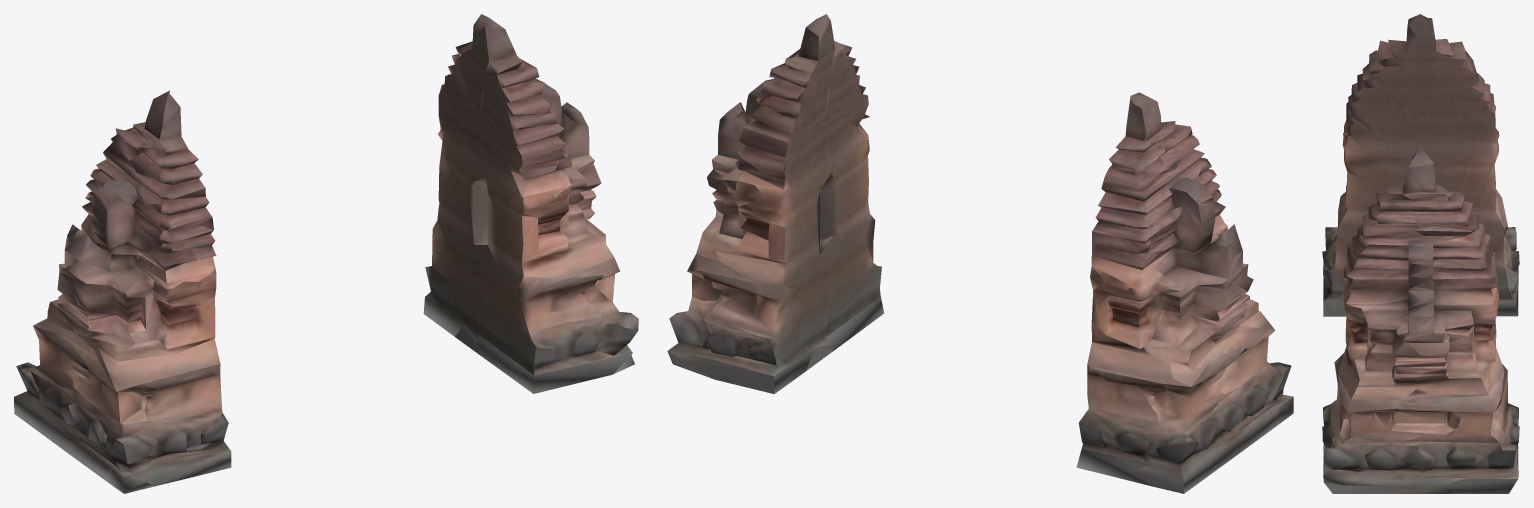
File: gerbang_bhagawan_lod2.glb
3 renders of one model, left to right at view 1: azimuth 30°, elevation 25°; view 2: azimuth 150°, elevation 25°; view 3: azimuth 270°, elevation 25°, orthographic. The views are drawn at different scales.
Parts seen in each view (by area): view 1: tripo_node_3f8a814e-6cc9-4e4d-80e5-c1f8f629eaa4; view 2: tripo_node_3f8a814e-6cc9-4e4d-80e5-c1f8f629eaa4; view 3: tripo_node_3f8a814e-6cc9-4e4d-80e5-c1f8f629eaa4.
Part boxes in pixels (box(x1,y1,x2,y2)): tripo_node_3f8a814e-6cc9-4e4d-80e5-c1f8f629eaa4: box(14, 14, 638, 493); tripo_node_3f8a814e-6cc9-4e4d-80e5-c1f8f629eaa4: box(667, 14, 1293, 493); tripo_node_3f8a814e-6cc9-4e4d-80e5-c1f8f629eaa4: box(1322, 14, 1519, 493).
Bounding box in the file's own units: 0.9984 × 0.6249 × 0.3705.
Materials: 1 (1 with a texture image).
